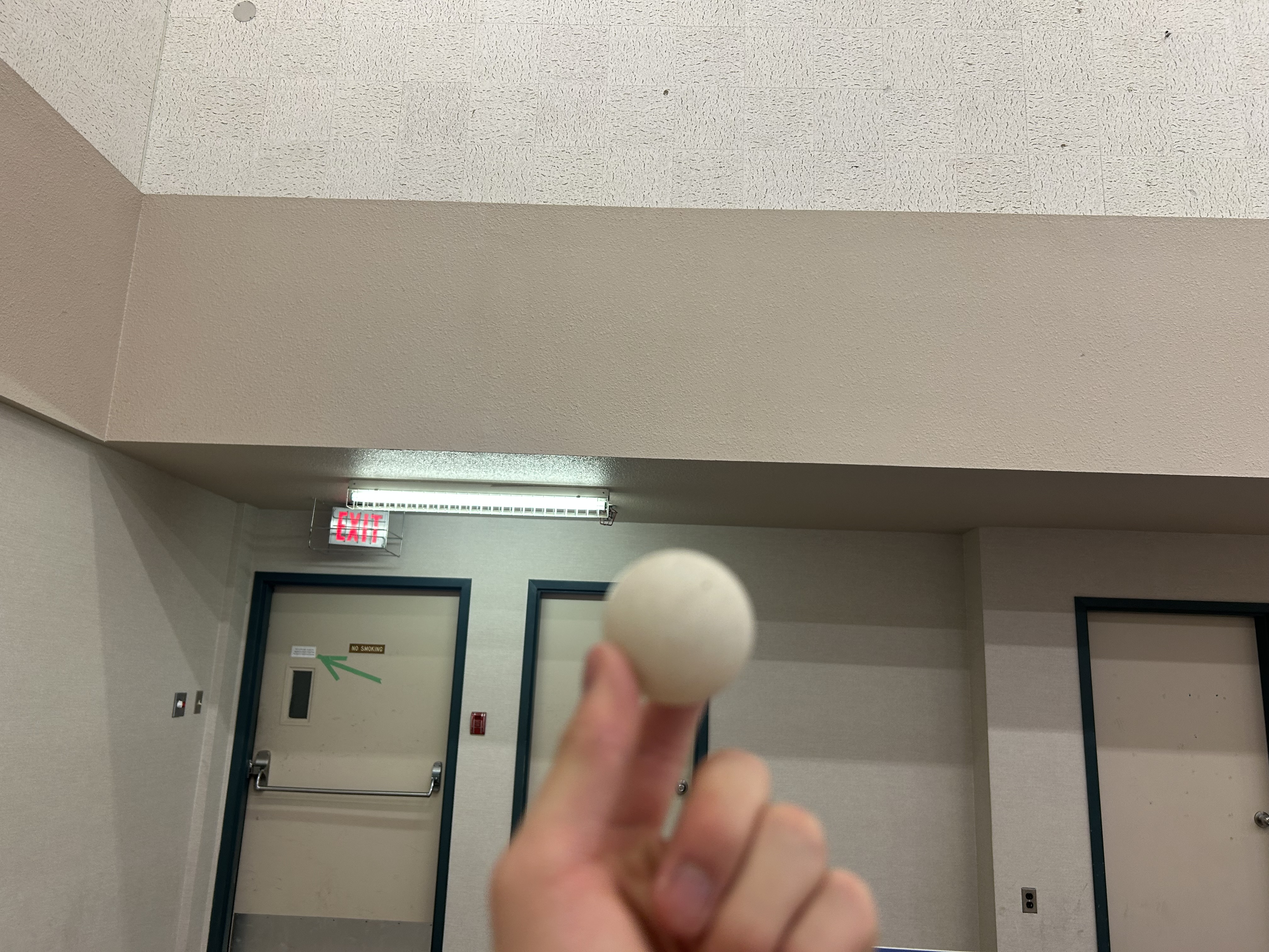Ball: (602, 547, 770, 702)
